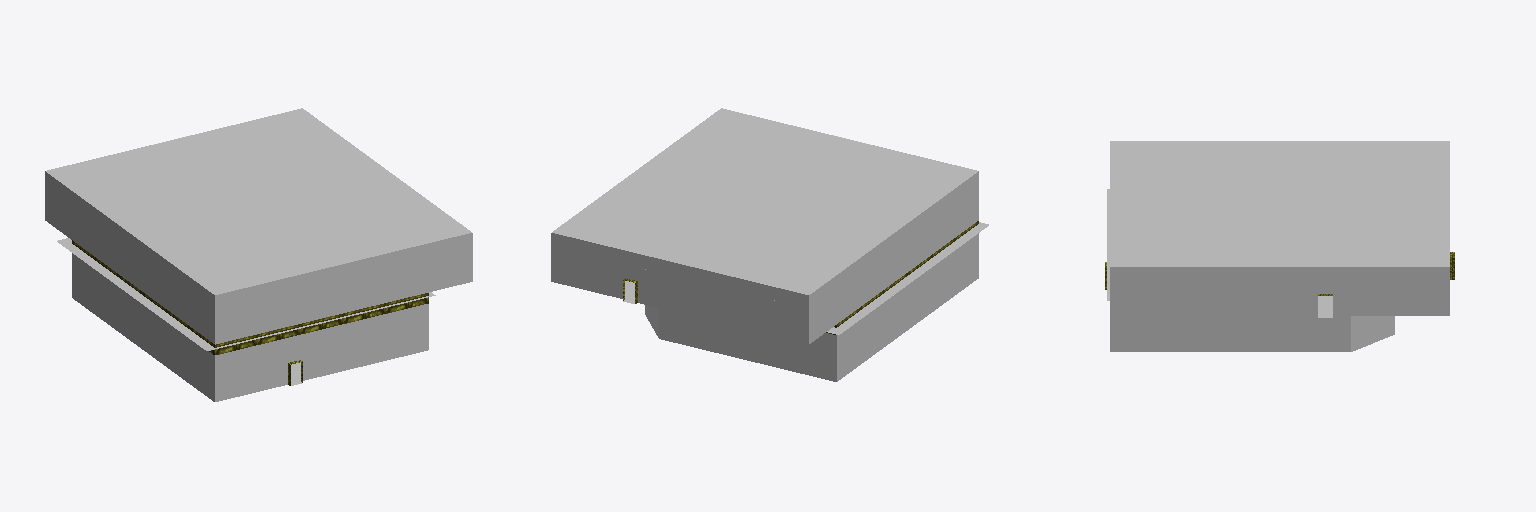
3 renders of one model, left to right at view 1: azimuth 30°, elevation 25°; view 2: azimuth 150°, elevation 25°; view 3: azimuth 270°, elevation 25°, orthographic.
Parts seen in each view (by area): view 1: Floor2#Room4, Floor2#Room4#Water; view 2: Floor2#Room4, Floor2#Room4#Water; view 3: Floor2#Room4.
Boxes of the visible parts, <box> form: Floor2#Room4: <box>45,108,472,401</box>; Floor2#Room4#Water: <box>57,238,435,350</box>; Floor2#Room4: <box>551,108,978,381</box>; Floor2#Room4#Water: <box>827,222,988,334</box>; Floor2#Room4: <box>1105,141,1454,351</box>.
Bounding box in the file's own units: 1315 × 496 × 1467.
8 materials, 1 textured.